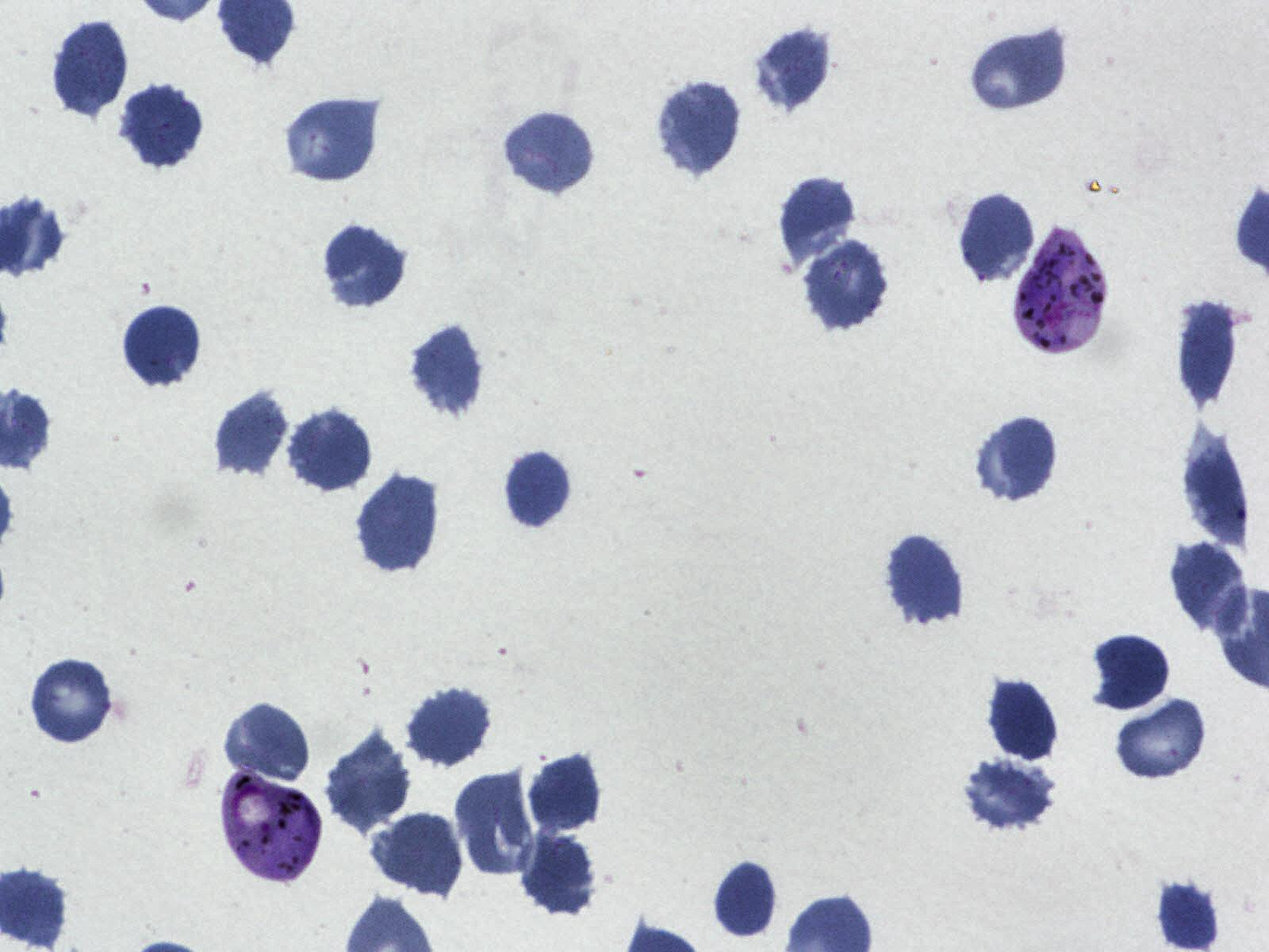Infected: (1014, 223, 1108, 355), (221, 768, 325, 886)
Uninfected: (452, 768, 537, 877), (355, 467, 439, 577), (1180, 420, 1252, 547), (282, 94, 379, 186), (968, 26, 1069, 112), (1114, 693, 1210, 783), (501, 108, 596, 196), (803, 236, 889, 332), (658, 78, 742, 176), (328, 734, 409, 835), (371, 810, 463, 898), (28, 655, 115, 747), (1170, 539, 1250, 638), (778, 172, 857, 272), (958, 188, 1036, 288), (961, 757, 1060, 835), (55, 17, 131, 118), (320, 222, 407, 310), (887, 531, 965, 629), (976, 412, 1060, 502), (287, 407, 373, 493), (407, 683, 492, 770), (213, 388, 291, 482), (408, 320, 485, 415), (753, 24, 834, 113), (1175, 292, 1236, 408), (121, 82, 202, 169), (223, 702, 309, 783), (121, 304, 202, 389), (520, 831, 598, 918), (528, 751, 603, 837), (501, 447, 574, 532), (986, 678, 1058, 764), (1095, 632, 1168, 711), (715, 858, 780, 942), (1155, 878, 1221, 952)
